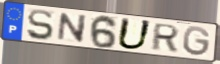6: (89, 14, 119, 49)
G: (182, 25, 213, 58)
N: (56, 12, 89, 44)
R: (149, 22, 181, 53)
S: (26, 9, 55, 42)
U: (115, 17, 154, 51)
